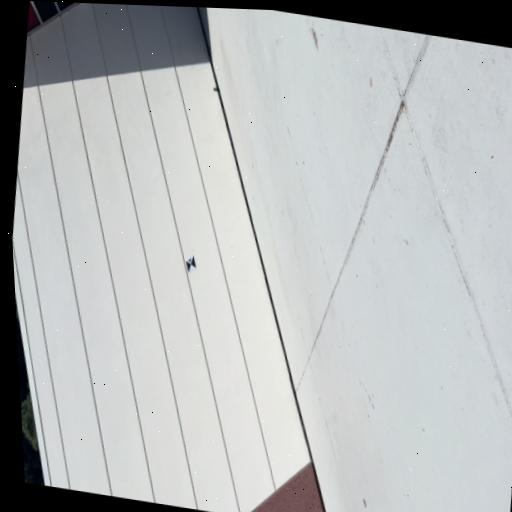target4: (186, 255, 196, 274)
